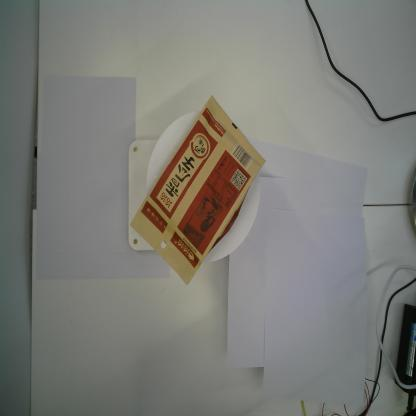Dried Food: (128, 93, 268, 289)
